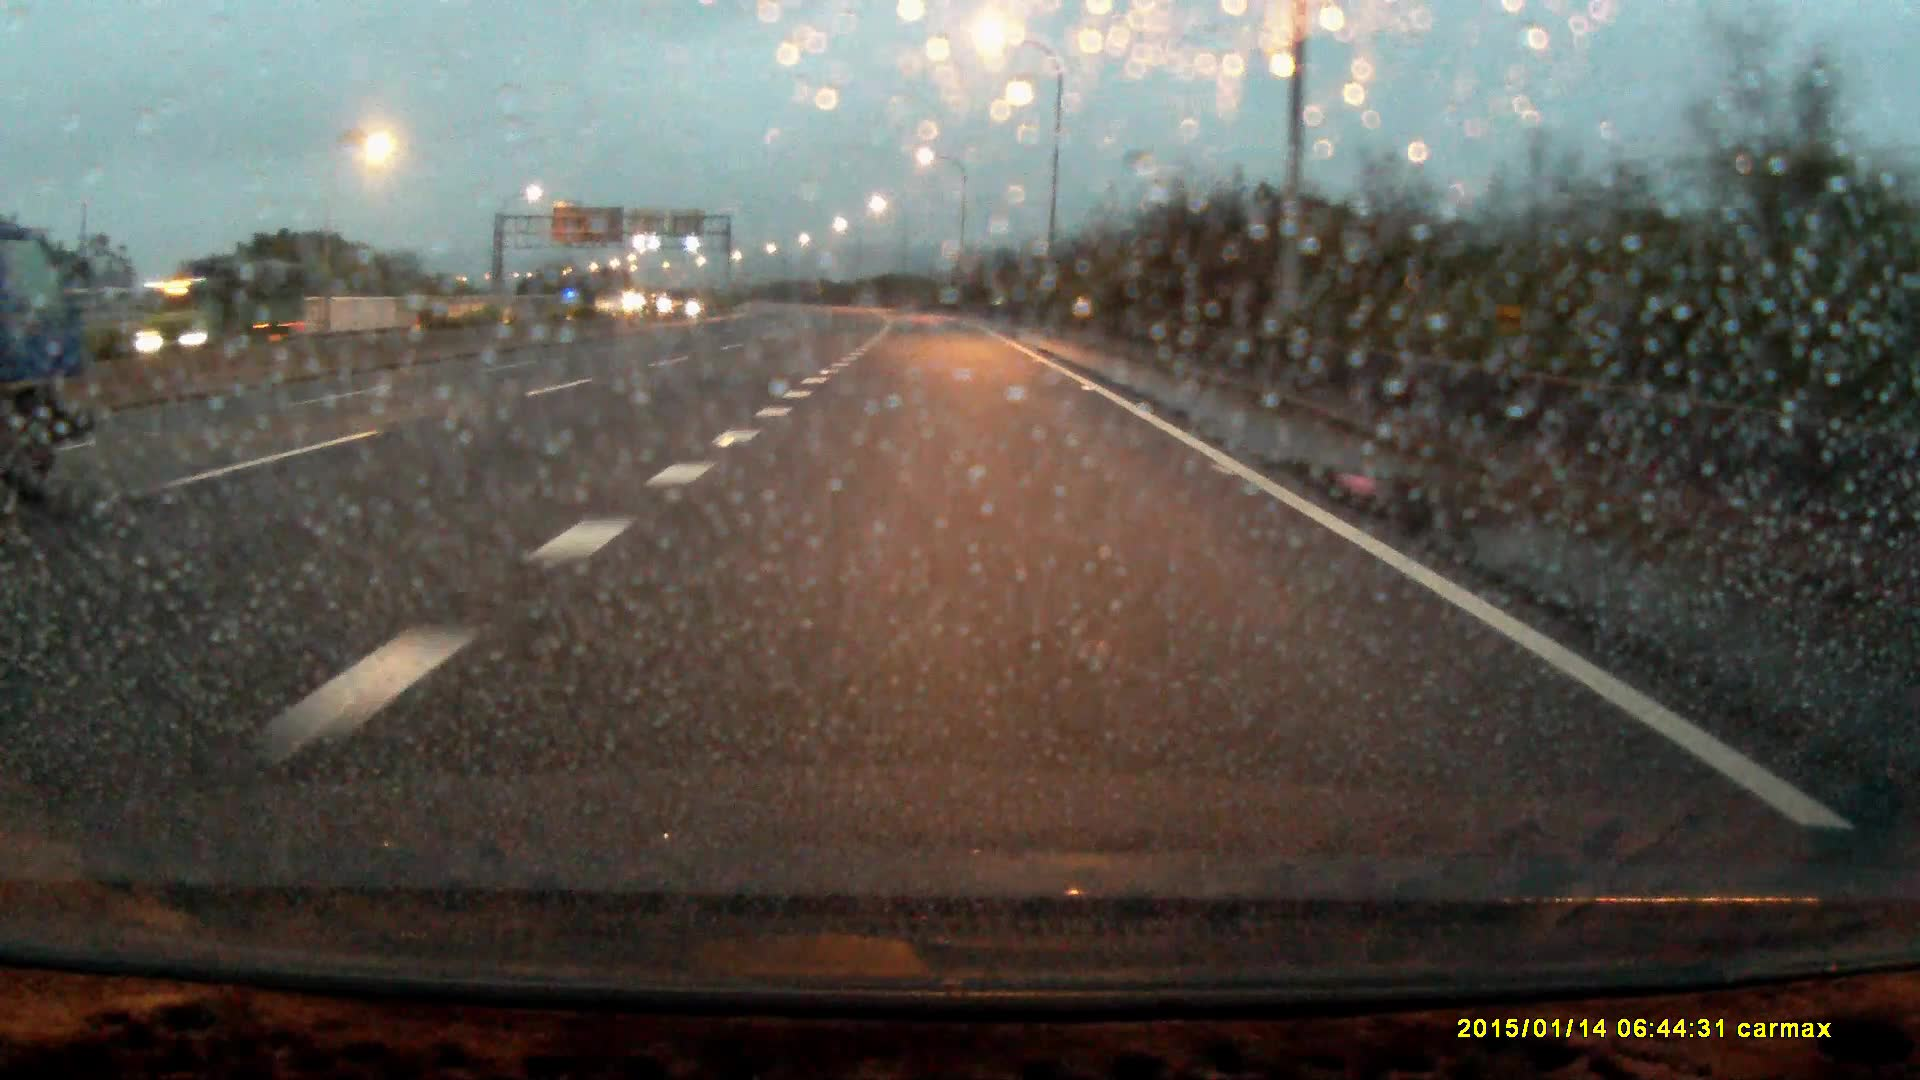vehicle: (167, 266, 307, 349)
